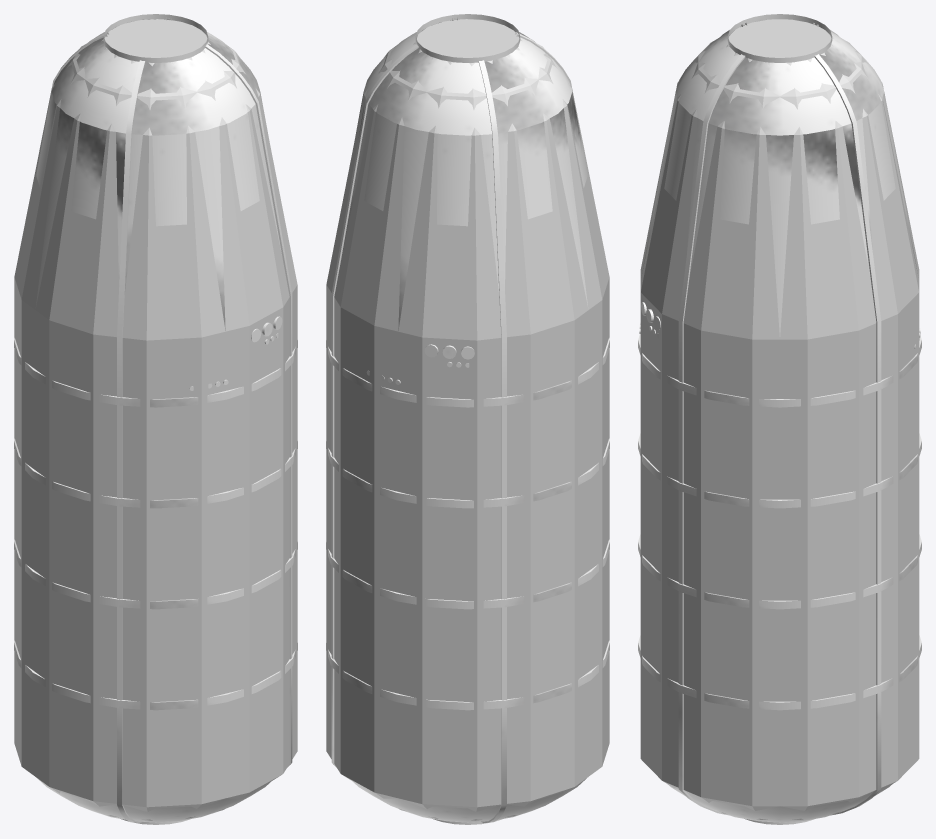
Rendered from giant_tank.fbx.
3 renders of one model, left to right at view 1: azimuth 30°, elevation 25°; view 2: azimuth 150°, elevation 25°; view 3: azimuth 270°, elevation 25°, orthographic.
Visible parts, largest first — view 1: c_1, mesh; view 2: c_1, mesh; view 3: c_1, mesh.
Boxes of the visible parts, x1,y1,x2,y2 form: c_1: (14,19,297,820); mesh: (14,14,297,824); c_1: (326,19,609,820); mesh: (326,14,609,824); c_1: (640,19,919,819); mesh: (638,14,921,824).
Size of the model in its own units: 2.55 by 7.6 by 2.55.
